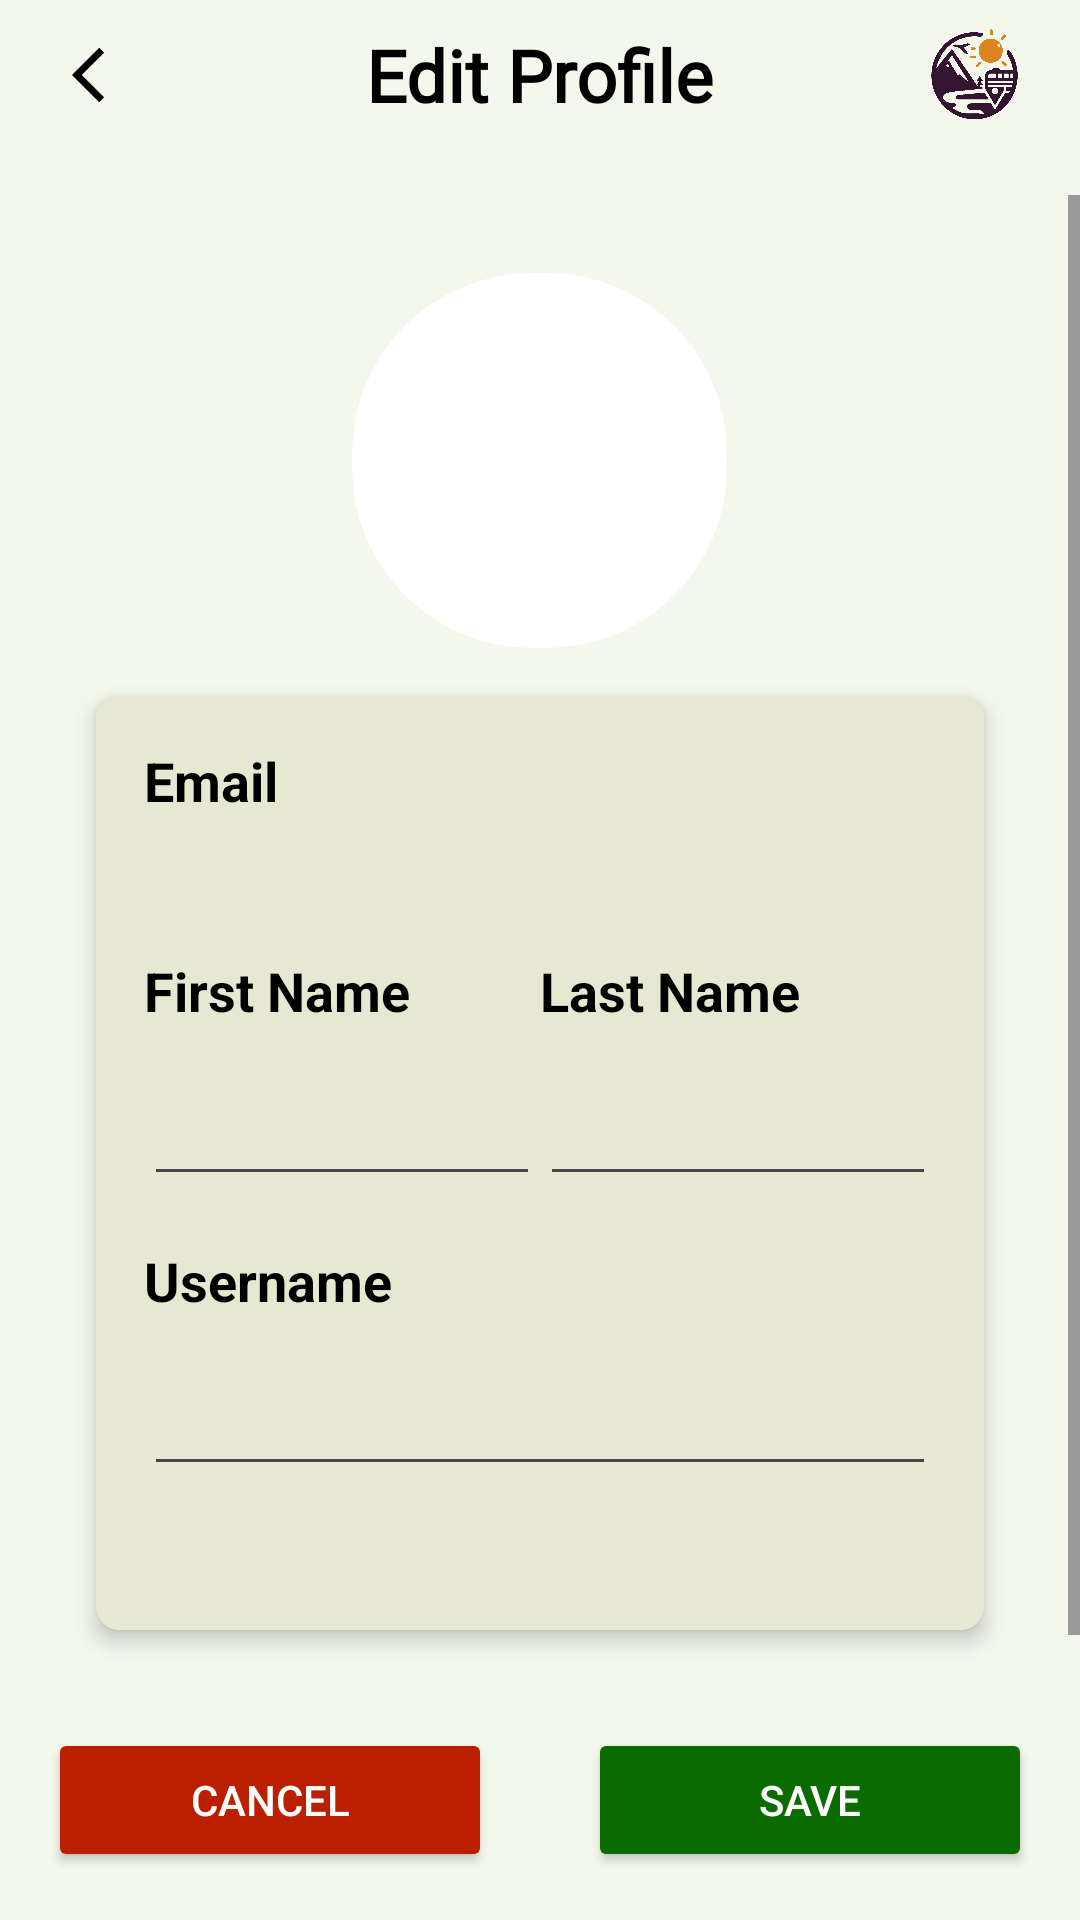

Icon click points for this 1080 x 1920 phone screenshot, format point (x, y):
backward: point (88, 75)
